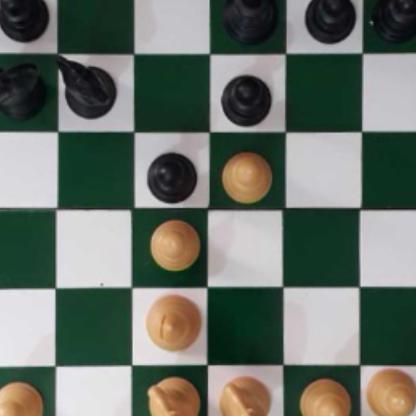black-bishop: (221, 0, 280, 43)
black-knight: (54, 54, 117, 117), (0, 59, 44, 120)
black-pawn: (219, 72, 274, 126), (145, 149, 198, 203), (304, 0, 354, 43), (0, 0, 46, 41), (373, 0, 416, 41)
white-bishop: (145, 291, 202, 351)
white-knight: (218, 375, 272, 416), (147, 378, 202, 416)
white-pawn: (219, 149, 274, 200), (149, 214, 200, 269), (367, 365, 416, 416), (299, 377, 351, 416), (0, 380, 44, 416)
